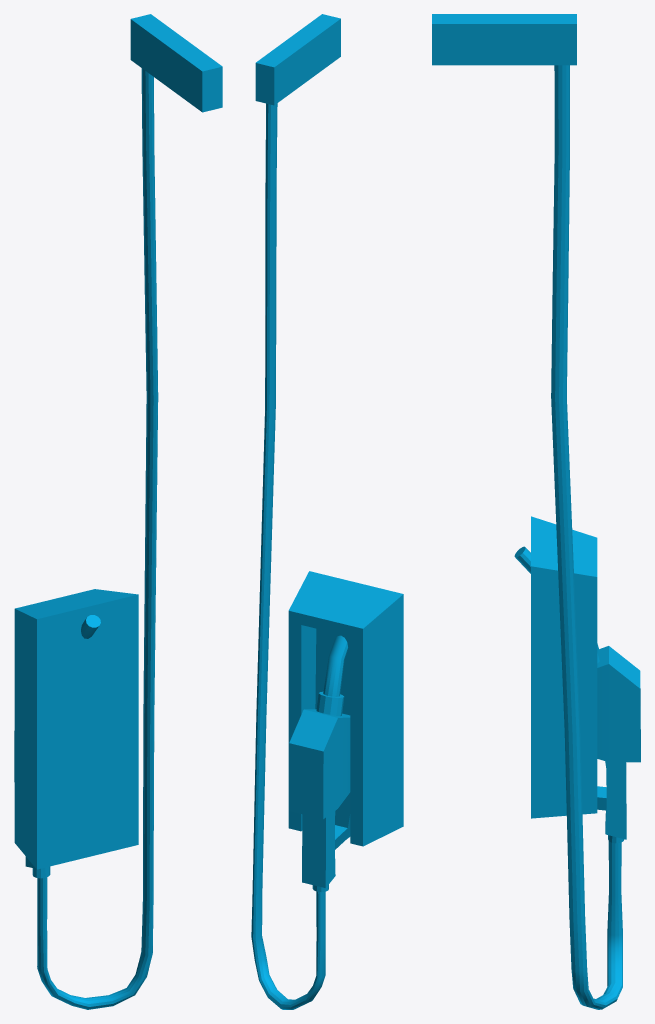
File: Fuel_Nozzles_02.fbx
3 renders of one model, left to right at view 1: azimuth 30°, elevation 25°; view 2: azimuth 150°, elevation 25°; view 3: azimuth 270°, elevation 25°, orthographic. The views are drawn at different scales.
Parts seen in each view (by area): view 1: Fuel_Nozzles_02; view 2: Fuel_Nozzles_02; view 3: Fuel_Nozzles_02.
Part boxes in pixels (left/top/right/bottom): Fuel_Nozzles_02: left=14, top=14, right=222, bottom=1009; Fuel_Nozzles_02: left=251, top=14, right=403, bottom=1009; Fuel_Nozzles_02: left=432, top=14, right=640, bottom=1009.
Bounding box in the file's own units: 28.27 × 194 × 36.63.
